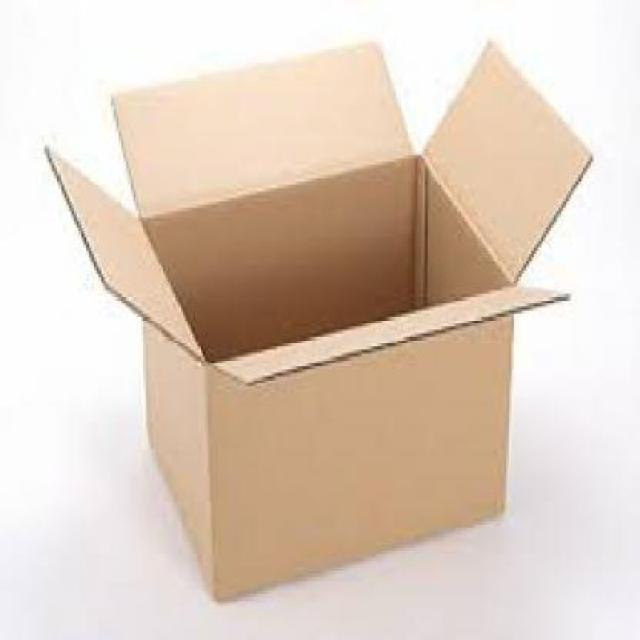CARDBOARD: (42, 33, 593, 601), (210, 298, 508, 607), (109, 42, 413, 212), (425, 29, 590, 274), (210, 284, 568, 382), (42, 145, 202, 360), (138, 308, 212, 597)
